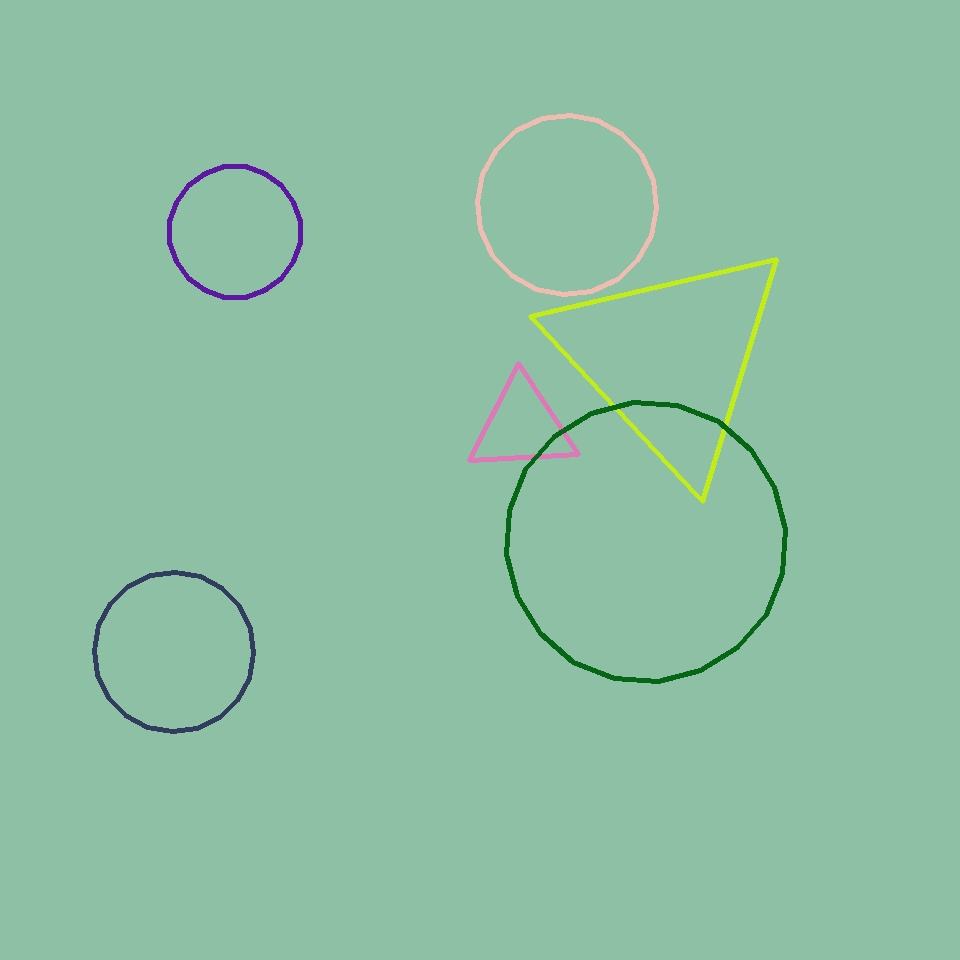circle: (547, 238, 793, 480), (467, 377, 576, 474)
triangle: (506, 402, 786, 682), (477, 115, 656, 294), (94, 573, 253, 732), (170, 167, 300, 298)
